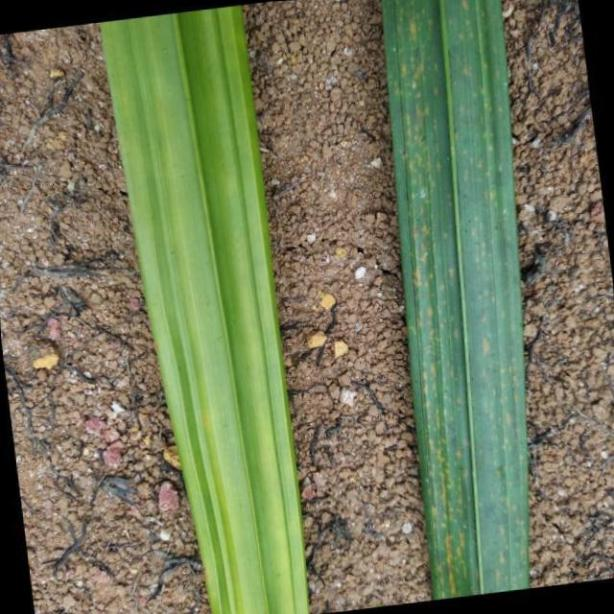nitrogen: (96, 6, 307, 614)
